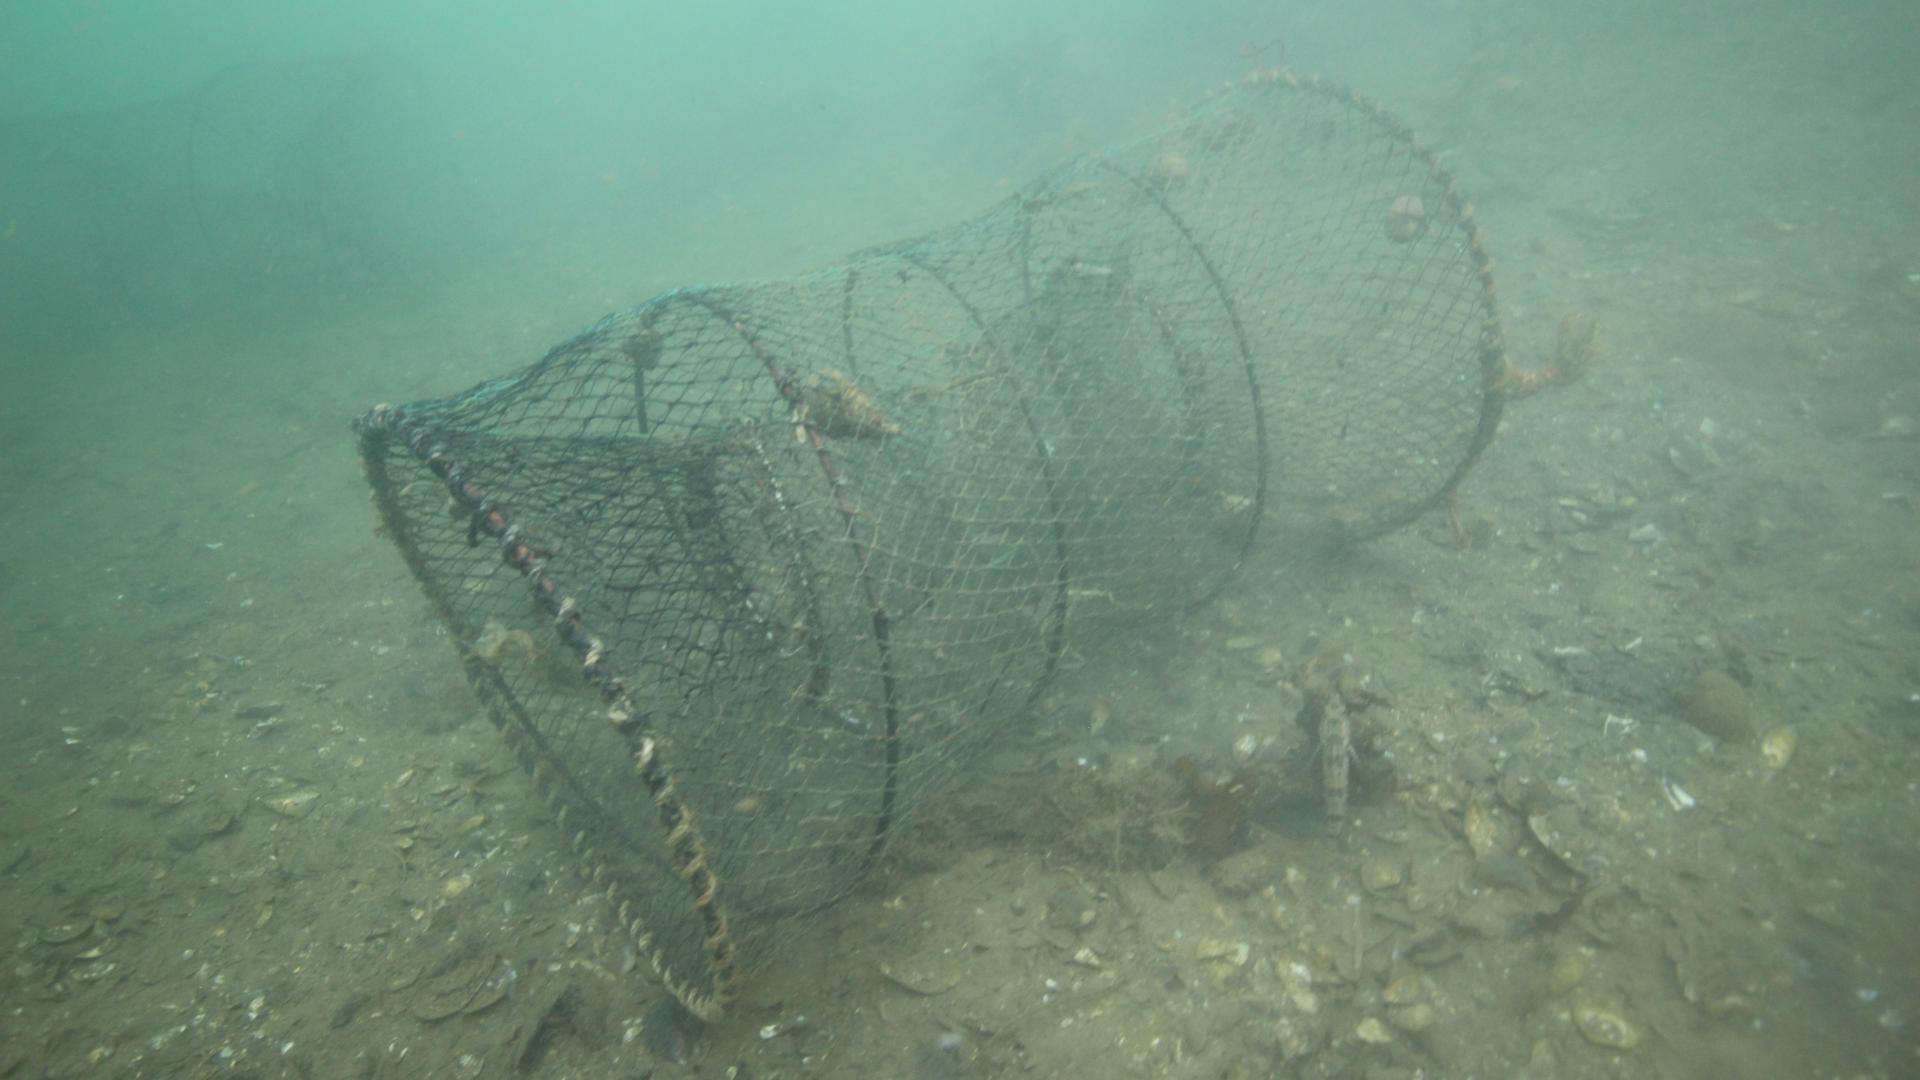spring fish trap: (353, 73, 1509, 1023)
